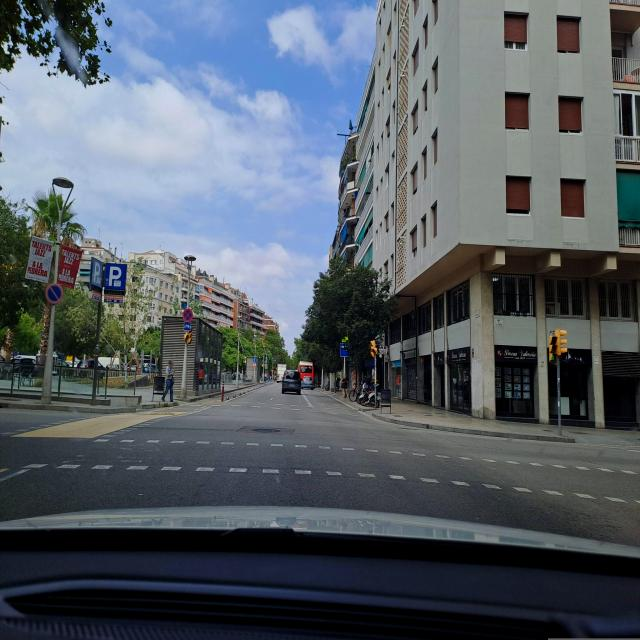bike: (357, 384, 379, 406)
car: (281, 370, 302, 395)
